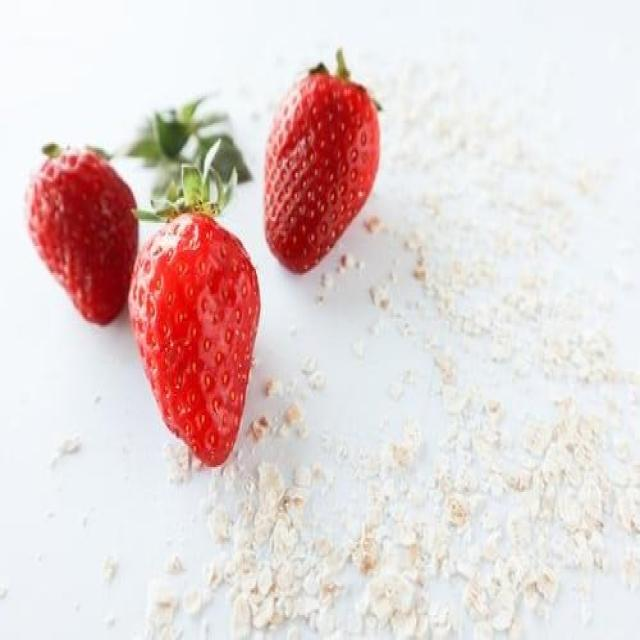mature: (128, 212, 261, 468), (266, 72, 379, 272), (23, 149, 140, 322)
